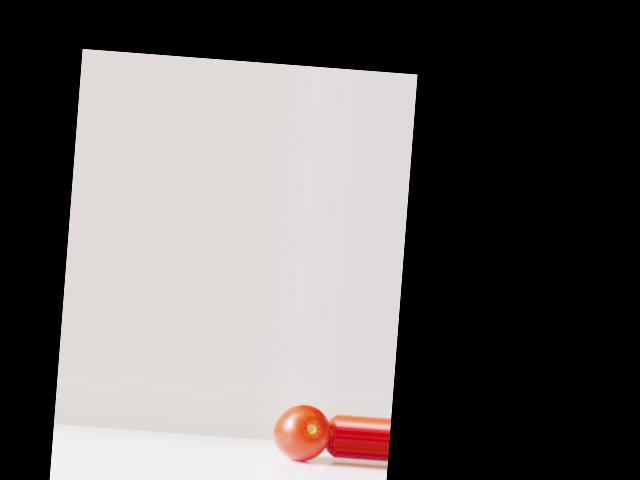tomato: (271, 402, 331, 462)
